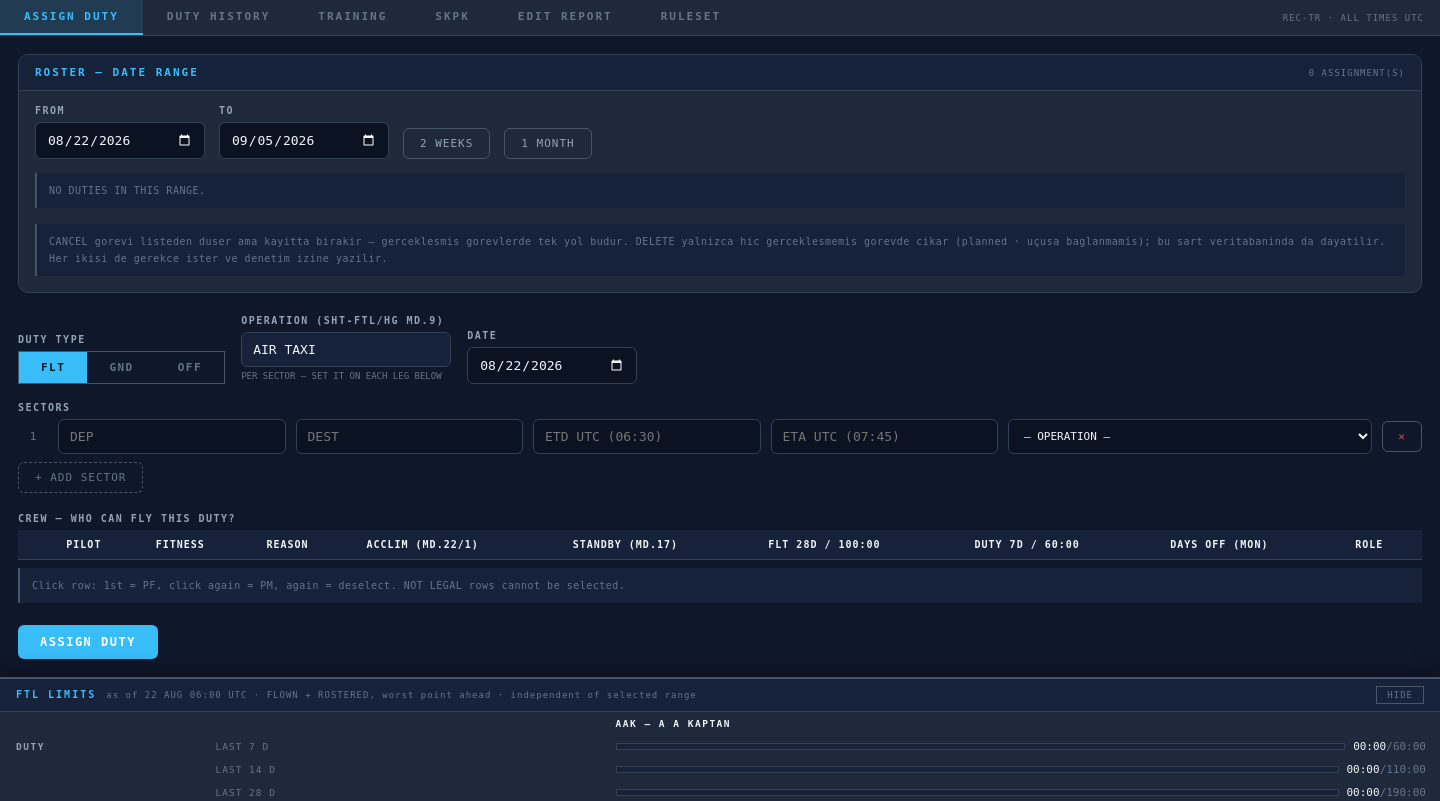
Test: DH ekrani › ADD SECTOR ikinci bacagi ekler (aktarmali DH)
Check: the button "ASSIGN DUTY" is shown, box x1=18 y1=624 x2=158 y2=658
Click the text "GND" at {"x": 122, "y": 367}, box x1=109 y1=360 x2=134 y2=374
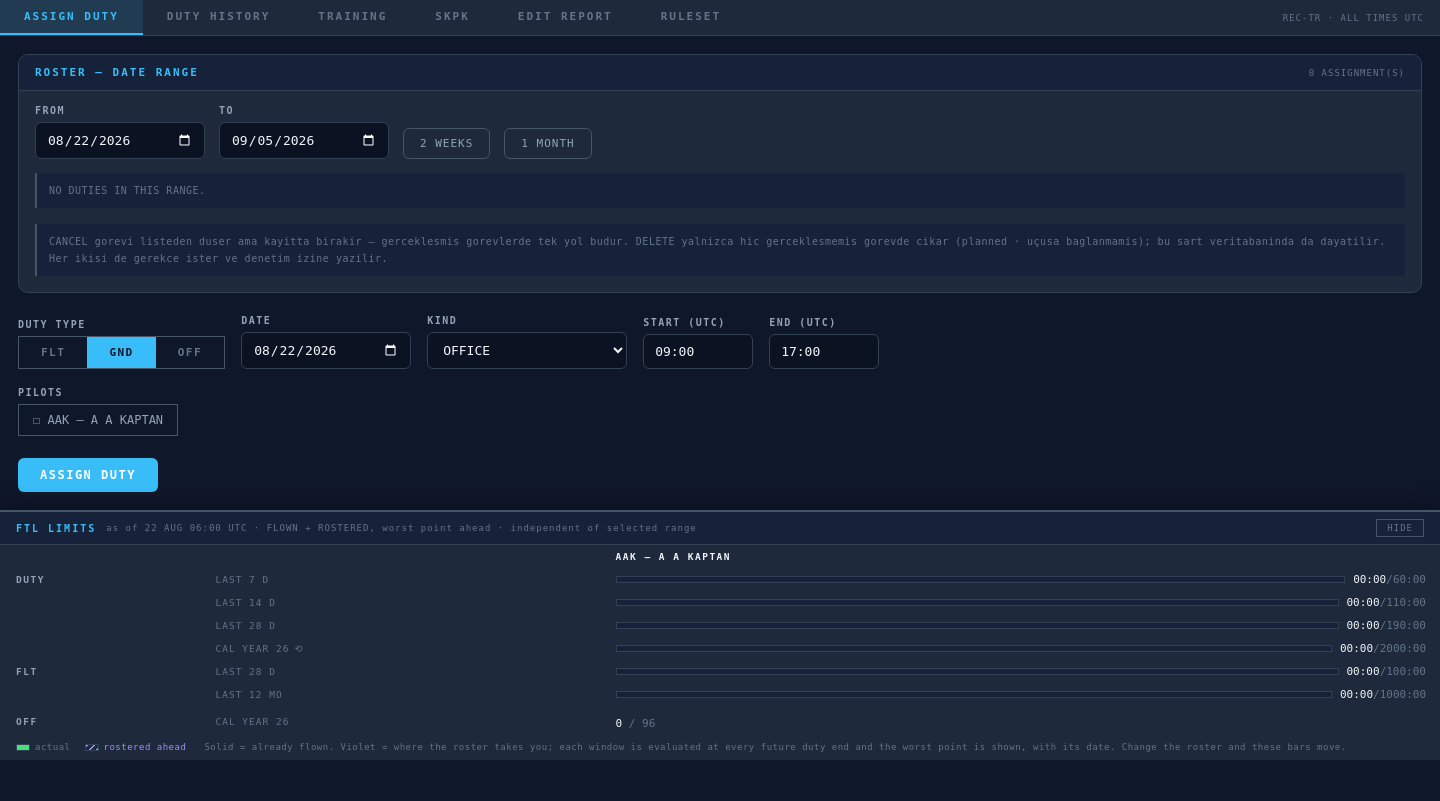
Select "DH — DEADHEAD / POSITIONING (Md.14)" in the dropdown at {"x": 527, "y": 350}, box x1=427 y1=332 x2=627 y2=369
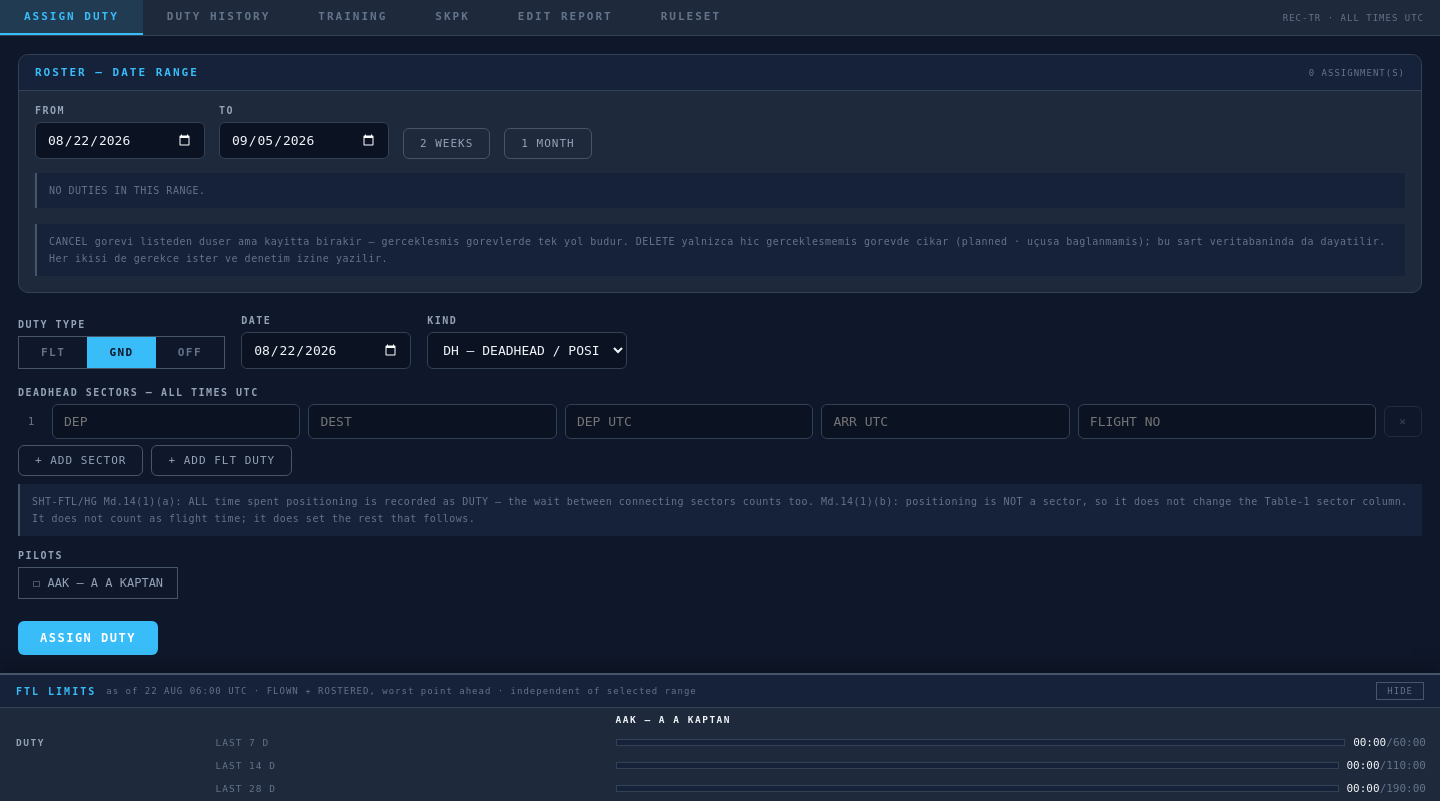
Check: the number of fields with placeholder "FLIGHT NO" is 1, box x1=1078 y1=404 x2=1376 y2=439
Click the button "+ ADD SECTOR" at {"x": 81, "y": 460}, box x1=18 y1=445 x2=144 y2=476
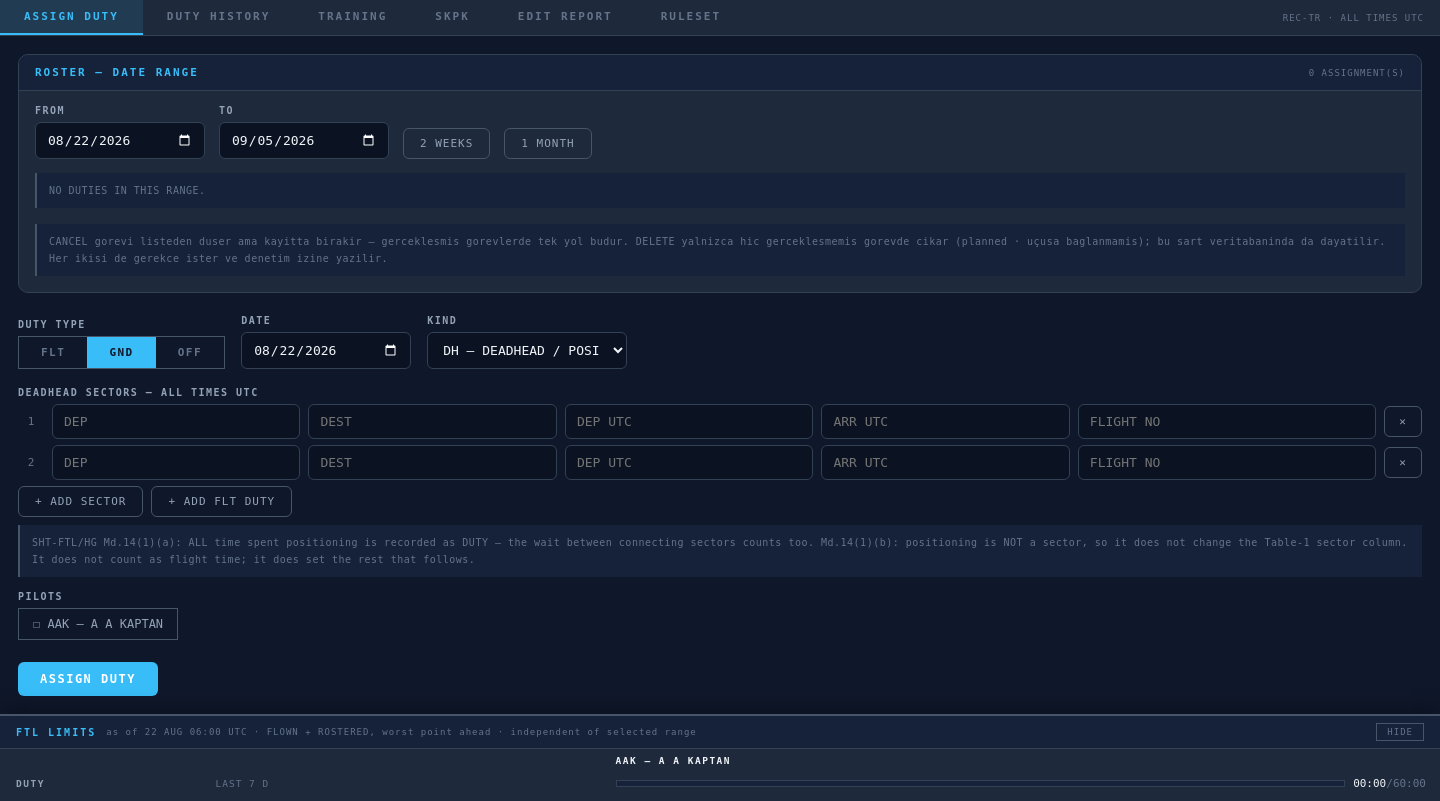
Check: the number of fields with placeholder "FLIGHT NO" is 2, box x1=1078 y1=404 x2=1376 y2=439; x1=1078 y1=445 x2=1376 y2=480
